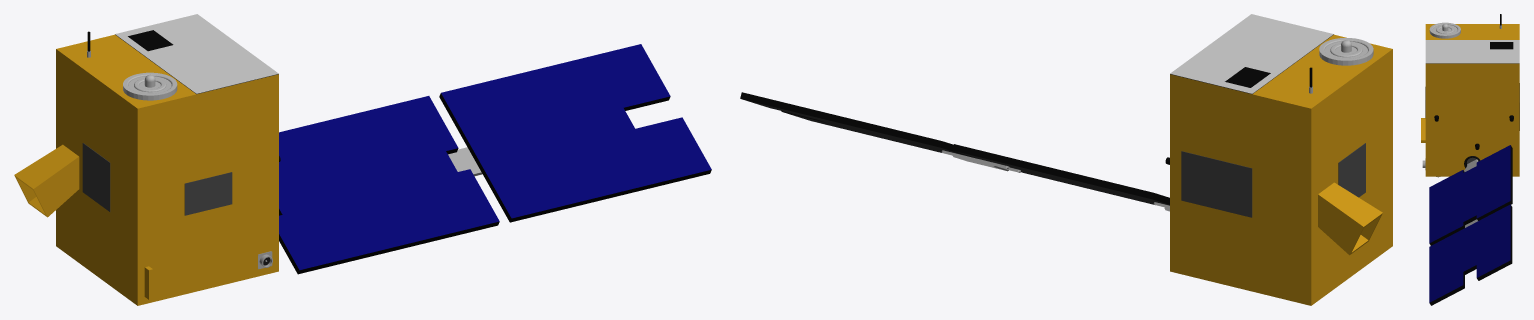
Rendered from Myriade_PARASOL.obj.
The picture shows the model from 3 angles, left to right: view 1: azimuth 30°, elevation 25°; view 2: azimuth 150°, elevation 25°; view 3: azimuth 270°, elevation 25°; orthographic projection. The views are drawn at different scales.
Parts seen in each view (by area): view 1: Main_platform_Cube.006, SolPanel_ext_Cube.009, SolPanel_int_Cube.013, Instrument_plate_Cube.003, StarTracker_Cube.005, ShinyThingy.001_Cube.007, ShinyThingy_Cube.004, X-band_antenna_Cylinder.006, Ergol_filling_thingy_Cube, SolPanel_frame_Cube.001; view 2: Main_platform_Cube.006, Instrument_plate_Cube.003, Instrument_plate.001_Cube.002, StarTracker_Cube.005, SolPanel_ext_Cube.009, SolPanel_int_Cube.013, X-band_antenna_Cylinder.006, ShinyThingy_Cube.004, SolPanel_frame_Cube.001; view 3: Main_platform_Cube.006, SolPanel_int_Cube.013, SolPanel_ext_Cube.009, Instrument_plate_Cube.003, X-band_antenna_Cylinder.006, SolPanel_frame_Cube.001, Ergol_filling_thingy_Cube, SolPanel_RoJo_Cylinder, SA_interf_Cylinder.001.
Part boxes in pixels (box(x1,y1,x2,y2)): Main_platform_Cube.006: box(56, 34, 278, 305); SolPanel_ext_Cube.009: box(439, 44, 711, 222); SolPanel_int_Cube.013: box(279, 96, 499, 274); Instrument_plate_Cube.003: box(115, 14, 278, 94); StarTracker_Cube.005: box(14, 144, 79, 217); ShinyThingy.001_Cube.007: box(184, 172, 232, 215); ShinyThingy_Cube.004: box(82, 143, 110, 211); X-band_antenna_Cylinder.006: box(123, 72, 177, 100); Ergol_filling_thingy_Cube: box(144, 266, 176, 299); SolPanel_frame_Cube.001: box(448, 147, 482, 176); Main_platform_Cube.006: box(1170, 34, 1392, 305); Instrument_plate_Cube.003: box(1170, 14, 1333, 94); Instrument_plate.001_Cube.002: box(1181, 151, 1252, 217); StarTracker_Cube.005: box(1318, 182, 1382, 255); SolPanel_ext_Cube.009: box(740, 92, 977, 158); SolPanel_int_Cube.013: box(952, 144, 1169, 205); X-band_antenna_Cylinder.006: box(1319, 38, 1373, 65); ShinyThingy_Cube.004: box(1338, 143, 1365, 197); SolPanel_frame_Cube.001: box(941, 150, 1169, 211); Main_platform_Cube.006: box(1425, 24, 1519, 176); SolPanel_int_Cube.013: box(1429, 145, 1512, 245); SolPanel_ext_Cube.009: box(1429, 204, 1512, 305); Instrument_plate_Cube.003: box(1425, 40, 1519, 63); X-band_antenna_Cylinder.006: box(1429, 22, 1460, 38); SolPanel_frame_Cube.001: box(1464, 159, 1478, 227); Ergol_filling_thingy_Cube: box(1421, 118, 1425, 142); SolPanel_RoJo_Cylinder: box(1464, 156, 1480, 168); SA_interf_Cylinder.001: box(1434, 115, 1513, 149).
Bounding box in the file's own units: 26.5 × 9.49 × 6.32.
